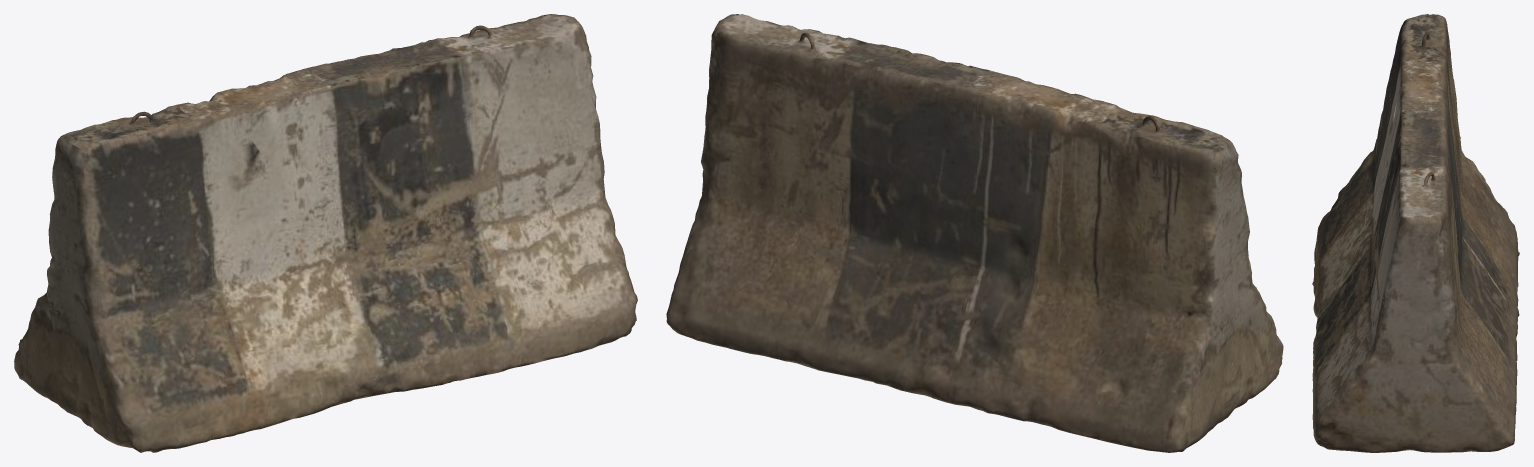
Rendered from ph_concrete_road_barrier.glb.
3 views of the same model, side by side, from view 1: azimuth 30°, elevation 25°; view 2: azimuth 150°, elevation 25°; view 3: azimuth 270°, elevation 25° (orthographic). The views are drawn at different scales.
Parts seen in each view (by area): view 1: concrete_road_barrier; view 2: concrete_road_barrier; view 3: concrete_road_barrier.
Part boxes in pixels (<box>): concrete_road_barrier: <box>14,14,637,452</box>; concrete_road_barrier: <box>666,14,1283,452</box>; concrete_road_barrier: <box>1312,14,1519,452</box>.
Bounding box in the file's own units: 1.55 × 0.8309 × 0.6387.
1 material, 1 textured.
